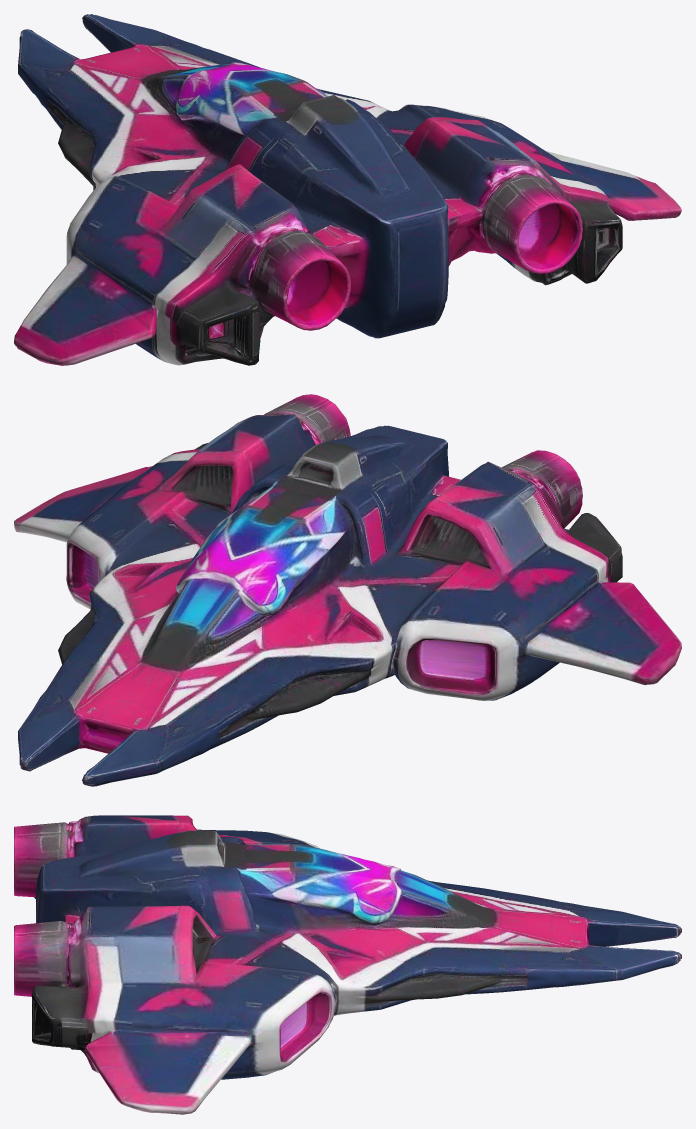
File: maskfly.glb
The picture shows the model from 3 angles, top to bottom: view 1: azimuth 30°, elevation 25°; view 2: azimuth 150°, elevation 25°; view 3: azimuth 270°, elevation 25°; orthographic projection. The views are drawn at different scales.
Visible parts, largest first — view 1: Mesh_0.005; view 2: Mesh_0.005; view 3: Mesh_0.005.
Boxes of the visible parts, x1,y1,x2,y2 form: Mesh_0.005: [14, 14, 681, 365]; Mesh_0.005: [14, 394, 681, 786]; Mesh_0.005: [14, 815, 681, 1114].
Size of the model in its own units: 1.86 by 0.4814 by 1.9.
1 material, 1 textured.
